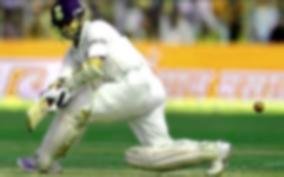batsman: (7, 0, 246, 177)
